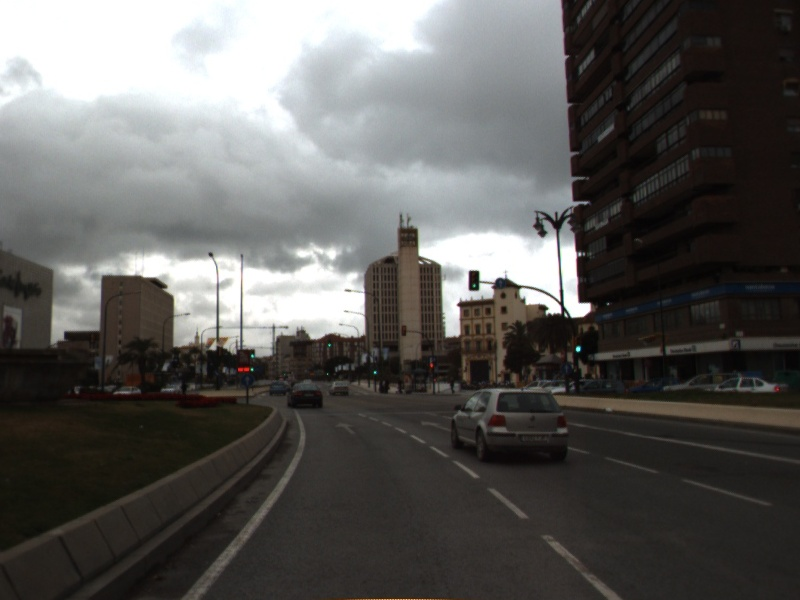STRAIGHT: (419, 418, 453, 433), (333, 420, 358, 436)
